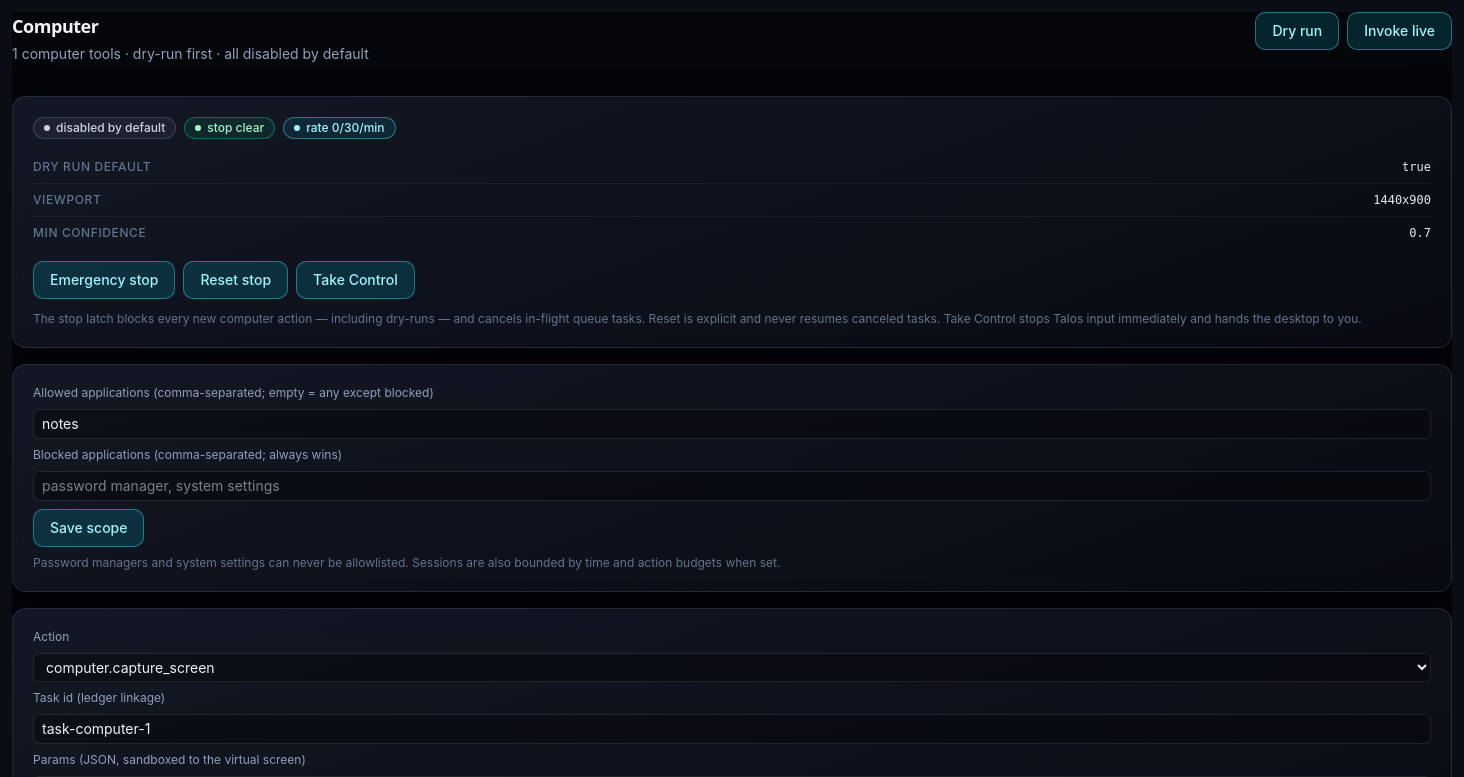
Test: Computer live view › take control stops Talos input and explains the handoff
Step 1. Click the button "Take Control" → [355, 280], box [296,261,415,299]
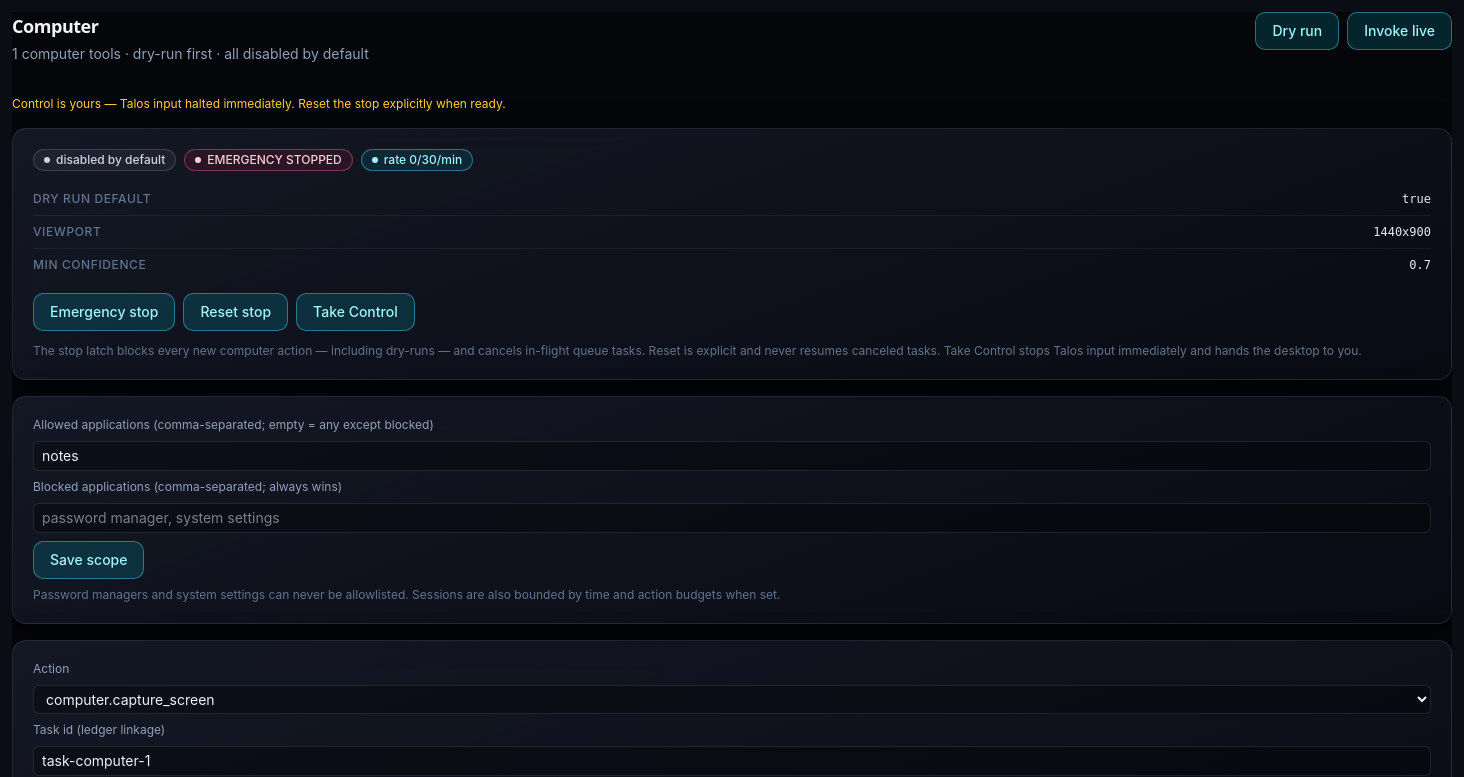
Expected: the text "Control is yours" is shown, [12,96,506,111]
